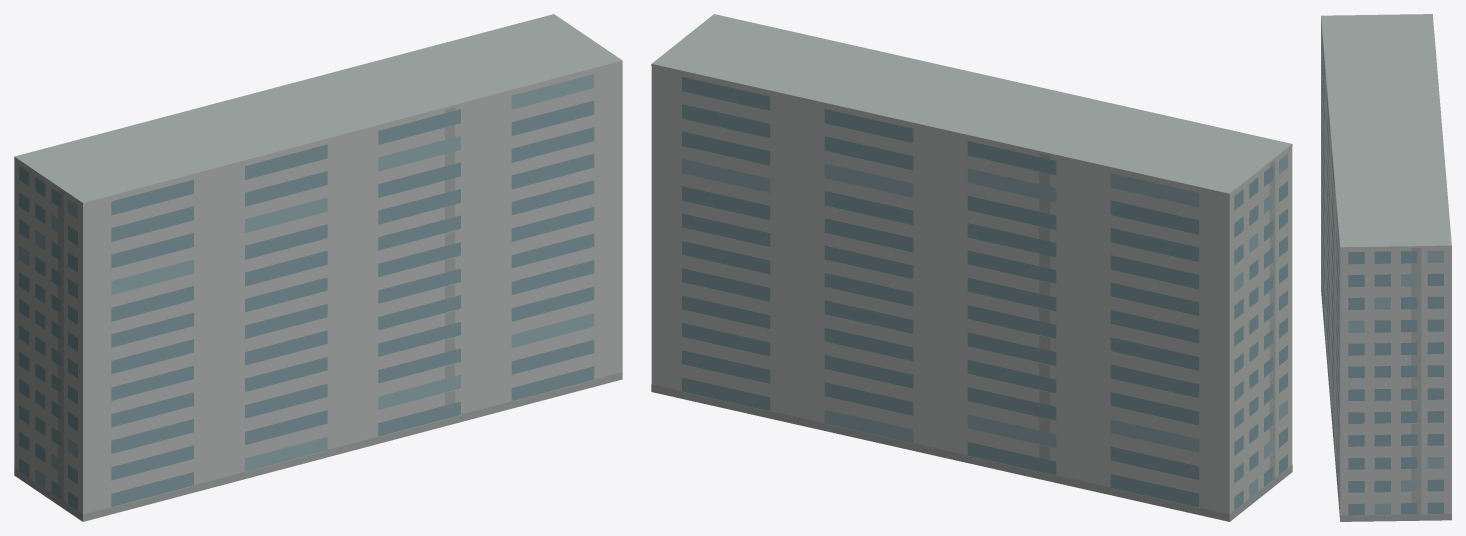
The model's file is residential-e50f8cb7-aaa6-4454-b425-af9b554e1299.glb.
3 views of the same model, side by side, from view 1: azimuth 30°, elevation 25°; view 2: azimuth 150°, elevation 25°; view 3: azimuth 270°, elevation 25° (orthographic). The views are drawn at different scales.
Parts seen in each view (by area): view 1: residential-e50f8cb7-aaa6-4454-b425-af9b554e1299.tmp; view 2: residential-e50f8cb7-aaa6-4454-b425-af9b554e1299.tmp; view 3: residential-e50f8cb7-aaa6-4454-b425-af9b554e1299.tmp.
Part boxes in pixels (x1,y1,x2,y2): residential-e50f8cb7-aaa6-4454-b425-af9b554e1299.tmp: [14, 14, 622, 521]; residential-e50f8cb7-aaa6-4454-b425-af9b554e1299.tmp: [651, 14, 1292, 521]; residential-e50f8cb7-aaa6-4454-b425-af9b554e1299.tmp: [1321, 14, 1451, 521].
Bounding box in the file's own units: 63.73 × 35 × 15.12.
